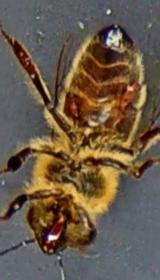varroa_mite: (114, 79, 138, 119), (61, 85, 86, 122)
